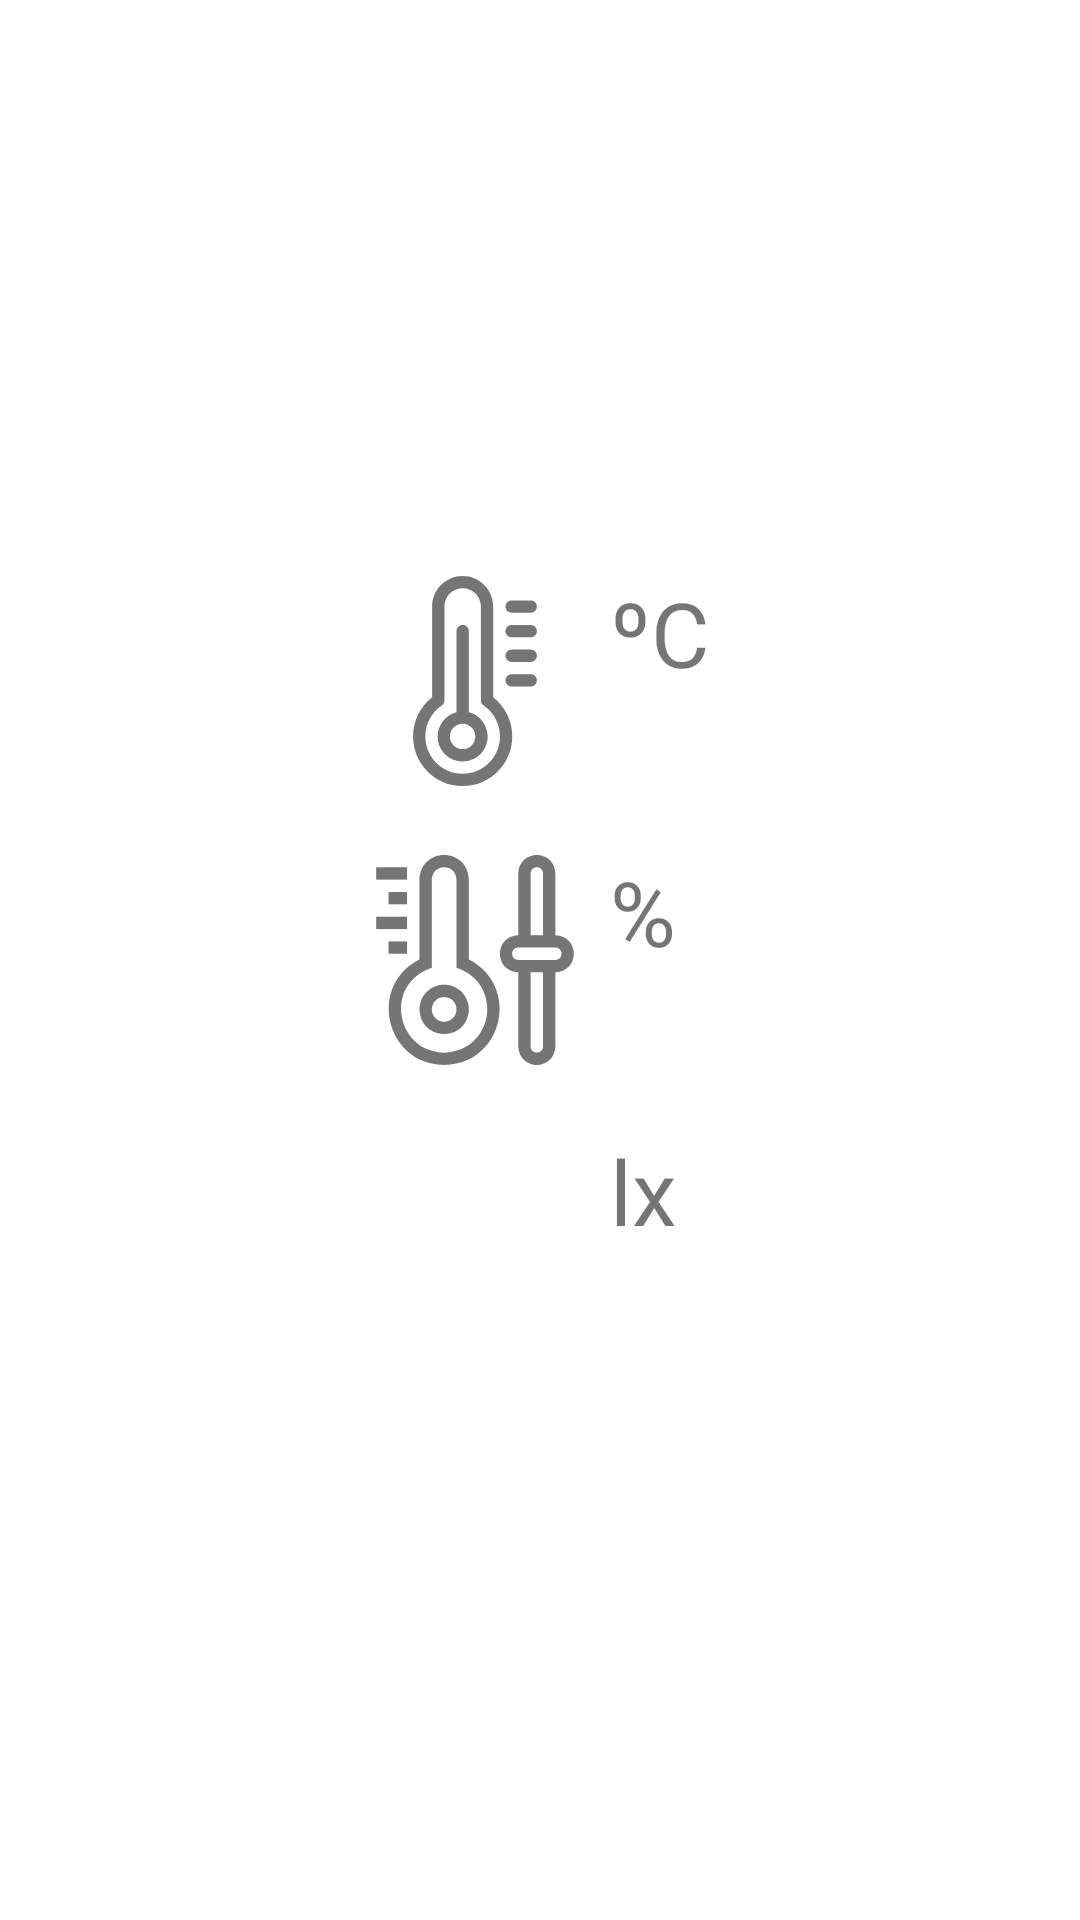

Icon click points for this 1080 x 1920 phone screenshot, format (x=x, y=y):
thermometer: (x=475, y=681)
